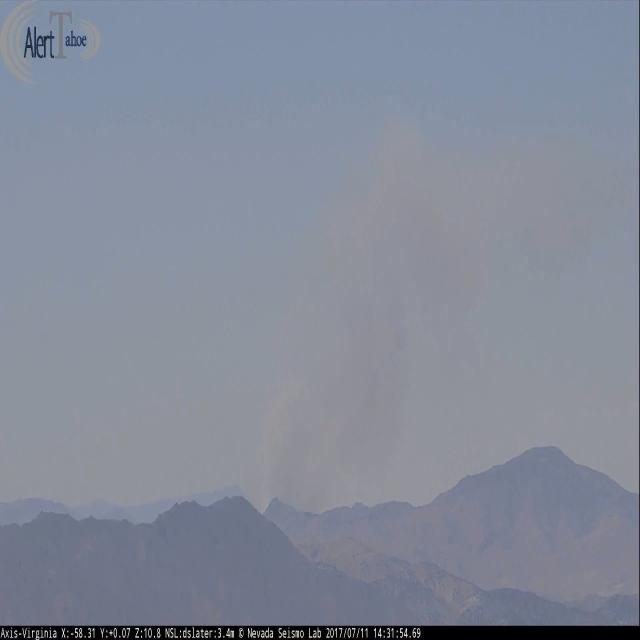smoke: (257, 122, 603, 513)
